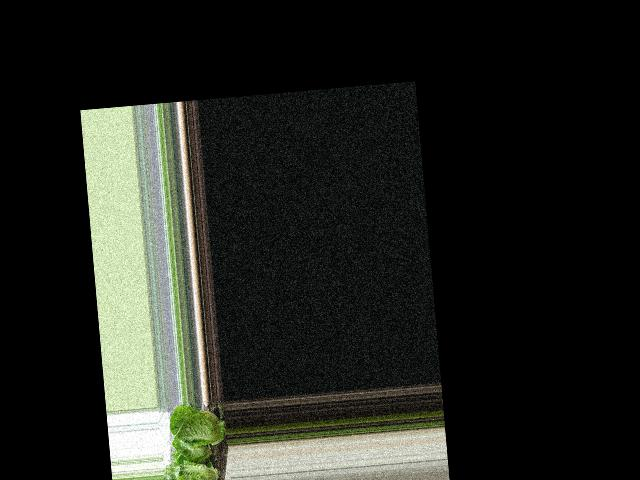lettuce: (167, 456, 226, 480)
